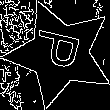P_E: (30, 30, 89, 78)
